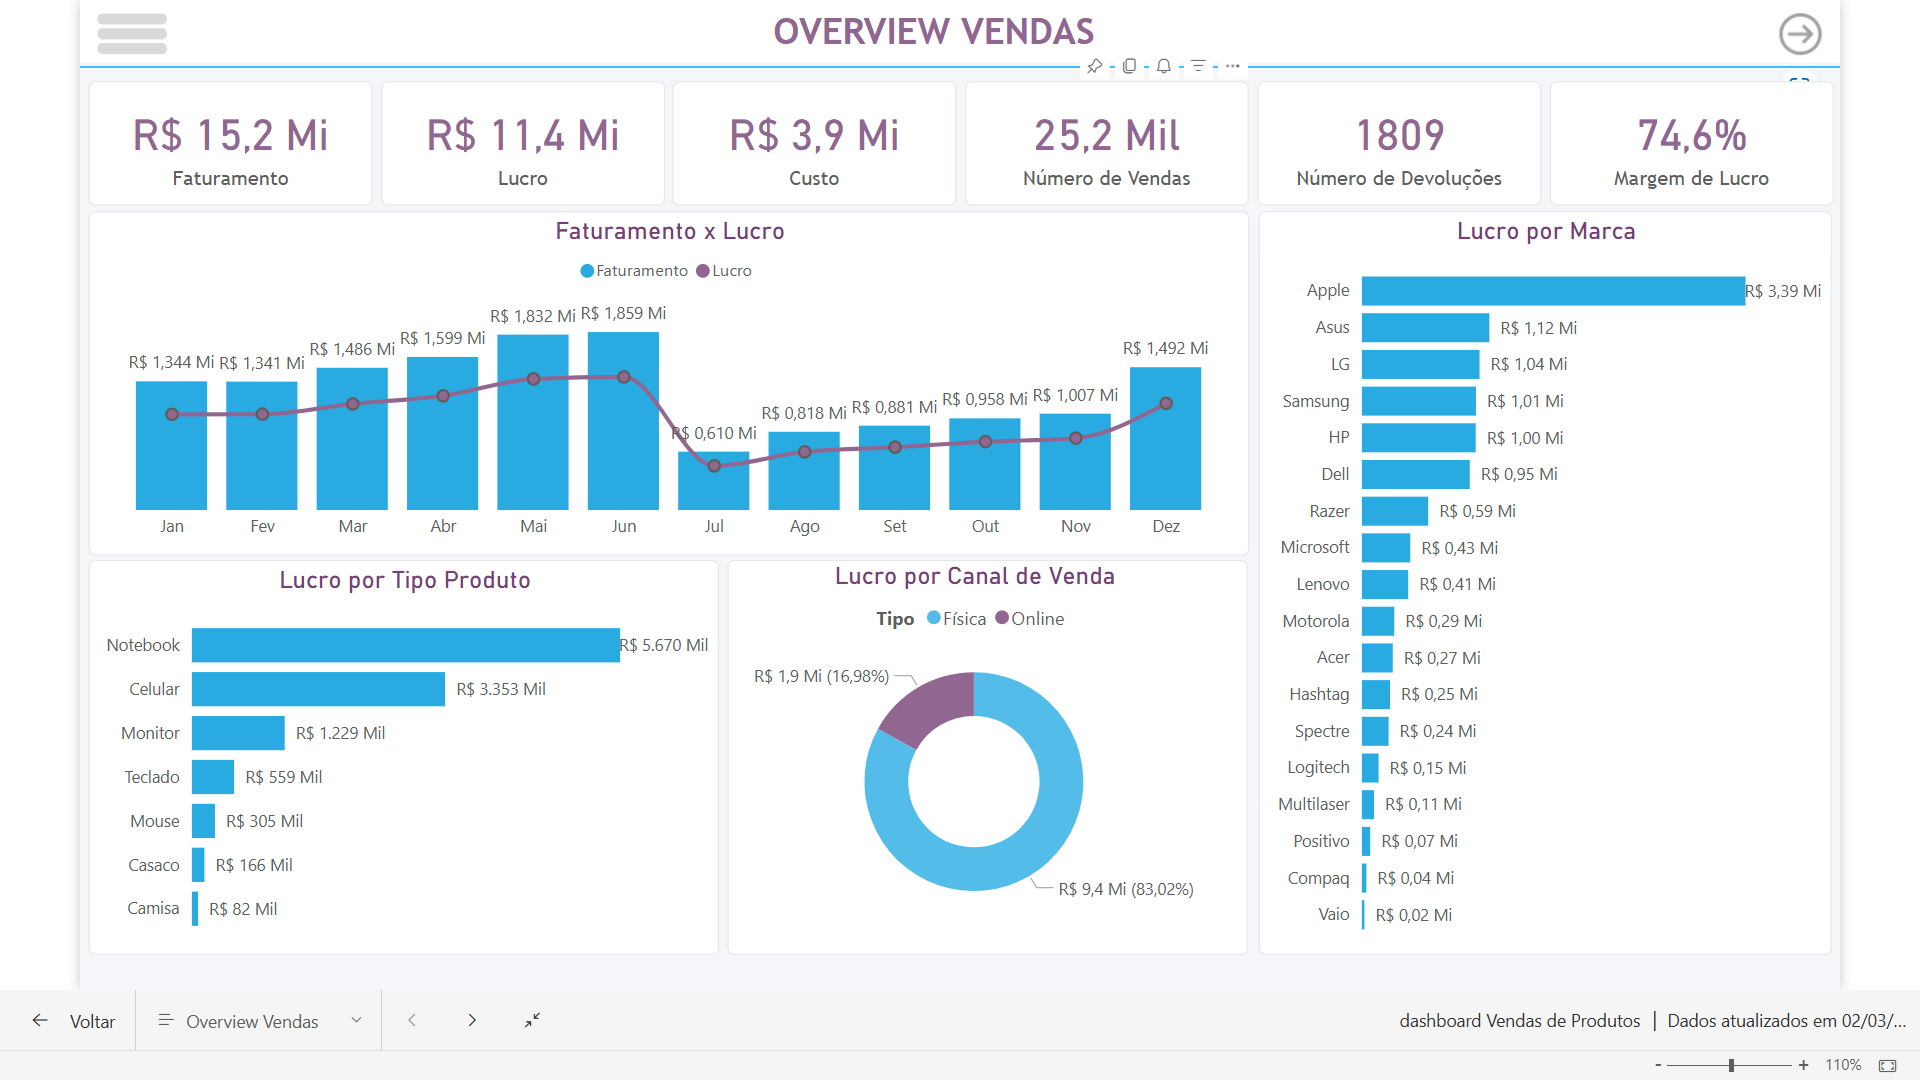

What the dashboard file says about the page in this screenshot:
{"tool":"powerbi","page":{"name":"Página 1","canvas":[1280,720],"ordinal":0},"visuals":[{"type":"card","fields":{"Values":["Medidas.Faturamento total"]},"box":[182.9,48.5,199,97],"z":0},{"type":"card","fields":{"Values":["Medidas.Custo Total"]},"box":[588.4,44.8,209,104.5],"z":1000},{"type":"card","fields":{"Values":["Medidas.Lucro Total"]},"box":[383.1,48.5,192.8,97],"z":2000},{"type":"card","fields":{"Values":["Medidas.Número de Vendas"]},"box":[797.4,44.8,154.3,104.5],"z":3000},{"type":"card","fields":{"Values":["Medidas.Número de Devoluções"]},"box":[952.9,43.5,177.9,113.2],"z":4000},{"type":"card","fields":{"Values":["Medidas.Margem de Lucro"]},"box":[1130.8,54.7,138.1,90.8],"z":5000},{"type":"slicer","fields":{"Values":["dim_Calendario.Ano"]},"box":[13.7,189.1,189.1,79.6],"z":8000},{"type":"slicer","fields":{"Values":["Localidades.País"]},"box":[13.7,319.7,189.1,79.6],"z":8001},{"type":"slicer","fields":{"Values":["Localidades.Continente"]},"box":[13.7,435.4,189.1,79.6],"z":8002},{"type":"lineStackedColumnComboChart","title":"Faturamento x Lucro","fields":{"Category":["dim_Calendario.Mes Abrev."],"Y":["Medidas.Faturamento"],"Y2":["Medidas.Lucro"]},"box":[214,166.7,959.1,232.6],"z":8003},{"type":"clusteredColumnChart","fields":{"Category":["Produtos.Marca"],"Y":["Medidas.Lucro"]},"box":[214,426.7,660.5,268.7],"z":8004},{"type":"clusteredBarChart","fields":{"Category":["Lojas.Tipo"],"Y":["Medidas.Lucro"]},"box":[886.9,435.4,313.5,260],"z":8005}]}

Visuals, with their boxes on the page's 1280x720 design canvas (x1, y1, x2, y2). These are canvas units, not pixel positions in the 1920x1080 screenshot, which may show the page scaled, cropped or inside an application window:
card - Medidas.Faturamento total: crop(183, 48, 382, 146)
card - Medidas.Custo Total: crop(588, 45, 797, 149)
card - Medidas.Lucro Total: crop(383, 48, 576, 146)
card - Medidas.Número de Vendas: crop(797, 45, 952, 149)
card - Medidas.Número de Devoluções: crop(953, 44, 1131, 157)
card - Medidas.Margem de Lucro: crop(1131, 55, 1269, 146)
slicer - dim_Calendario.Ano: crop(14, 189, 203, 269)
slicer - Localidades.País: crop(14, 320, 203, 399)
slicer - Localidades.Continente: crop(14, 435, 203, 515)
"Faturamento x Lucro" lineStackedColumnComboChart: crop(214, 167, 1173, 399)
clusteredColumnChart - Produtos.Marca x Medidas.Lucro: crop(214, 427, 874, 695)
clusteredBarChart - Lojas.Tipo x Medidas.Lucro: crop(887, 435, 1200, 695)
